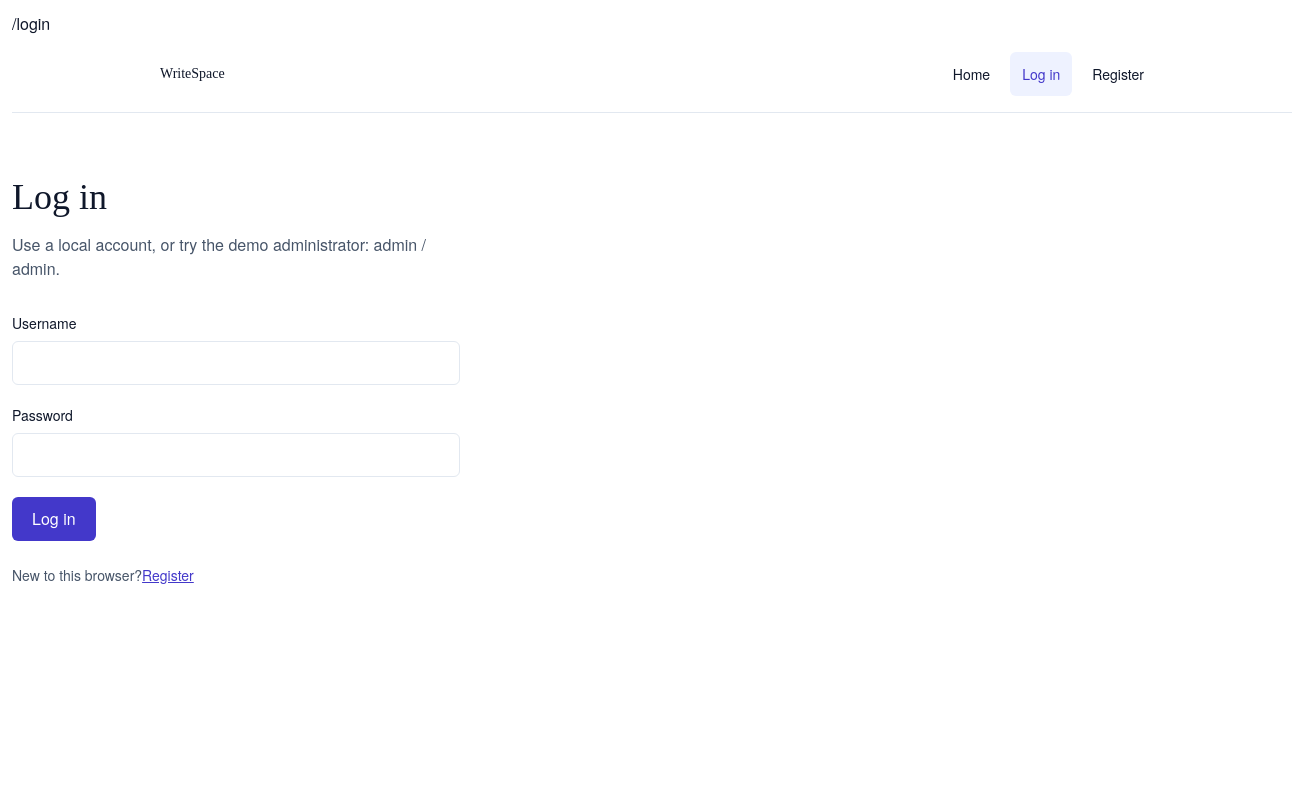
auth forms › logs stored admin into its confirmed destination
This screenshot has width=1292, height=812.
Type "mira" into the field labelled "Username" at [236, 363], box left=12, top=341, right=460, bottom=385
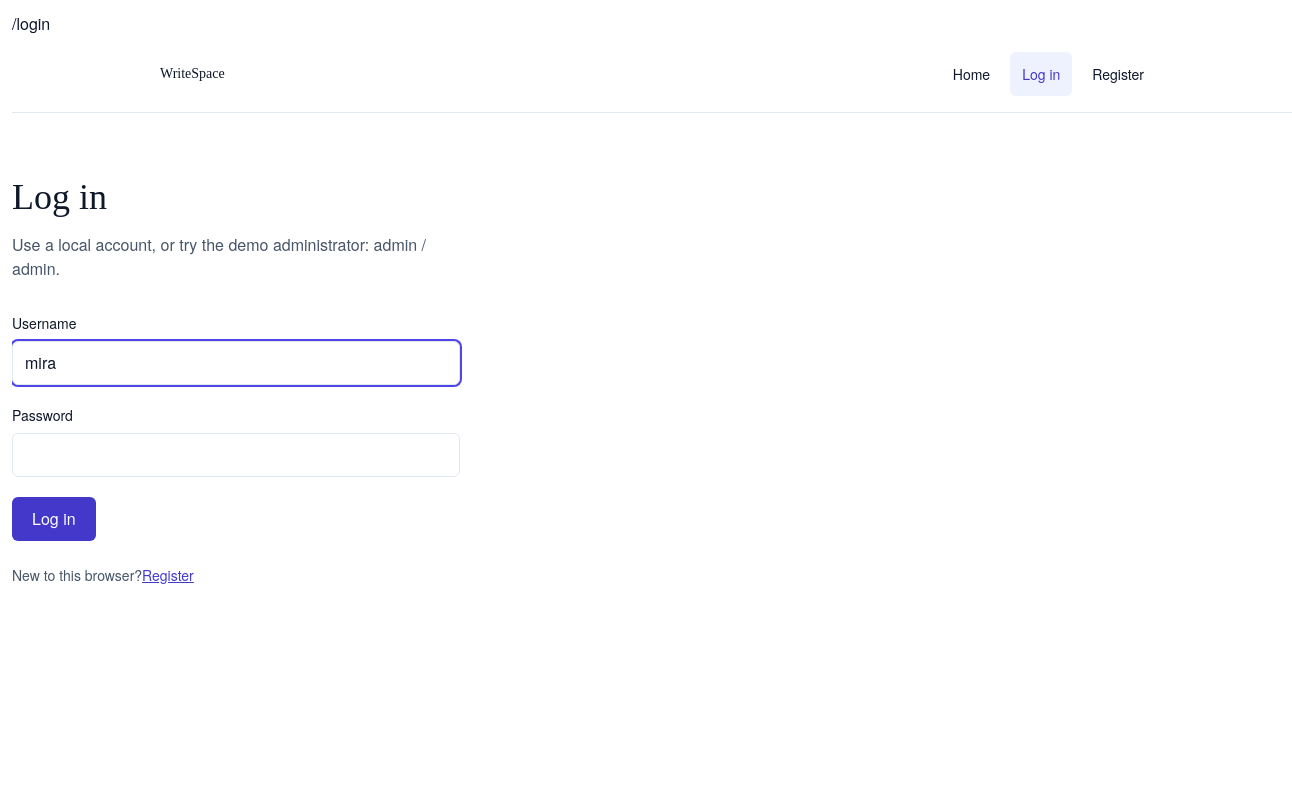
Type "demo" into the password field labelled "Password" at [236, 455], box left=12, top=433, right=460, bottom=477
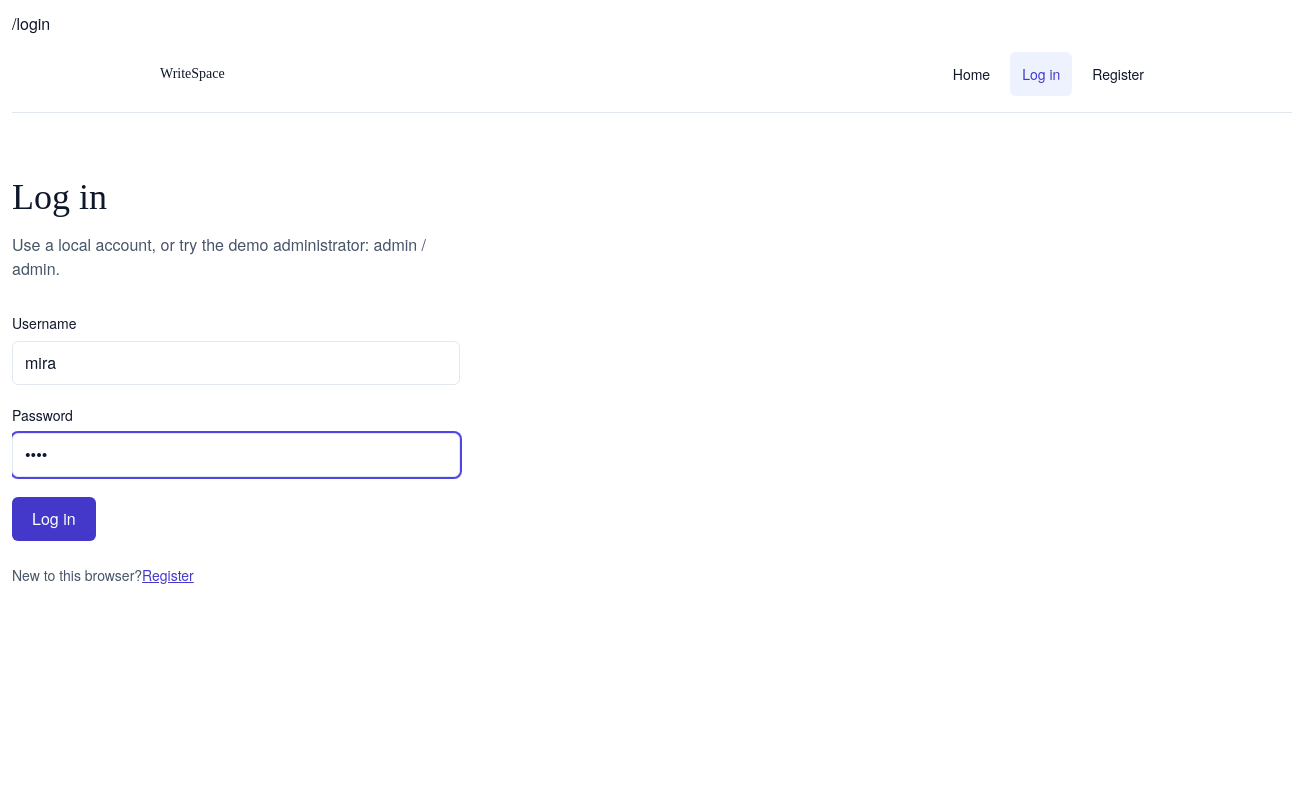
Click the button "Log in" at [54, 519], box left=12, top=497, right=96, bottom=541
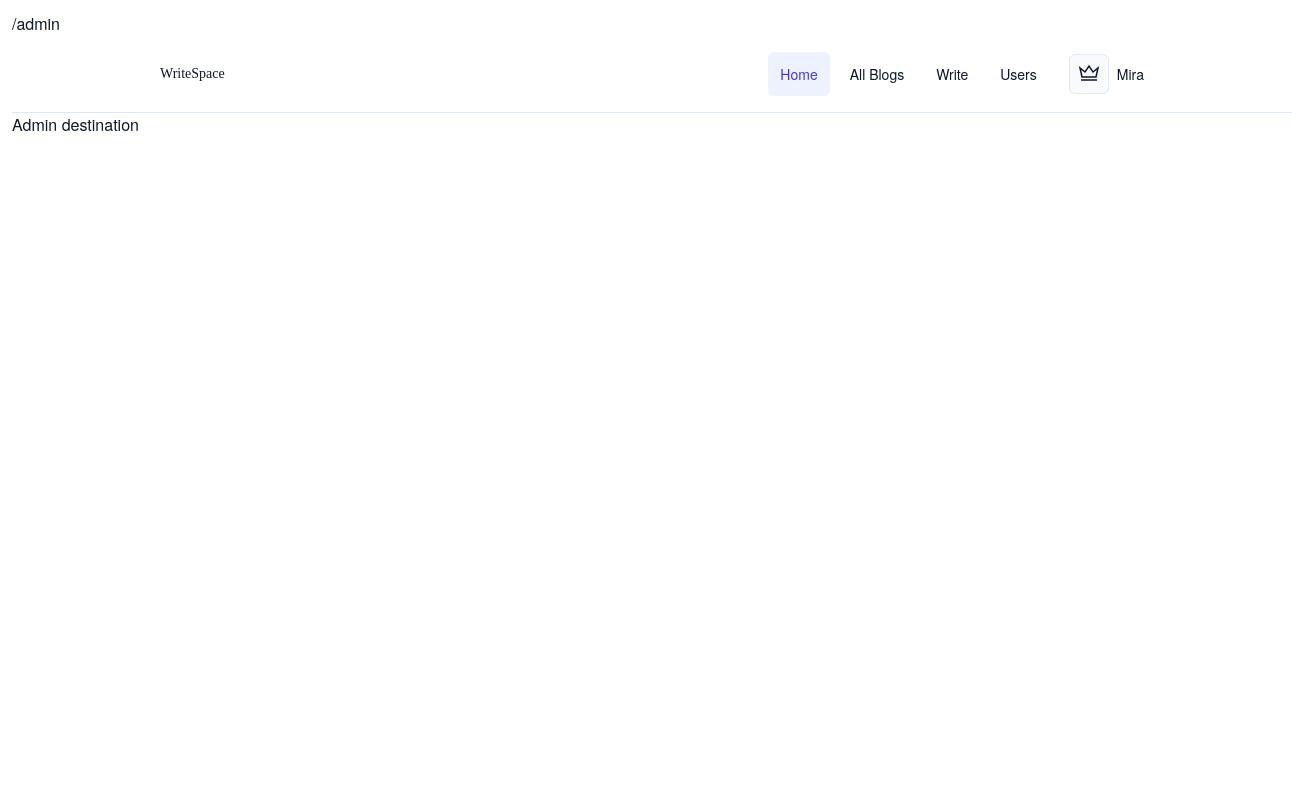
Check: the text "Admin destination" is shown, box left=12, top=113, right=139, bottom=136
